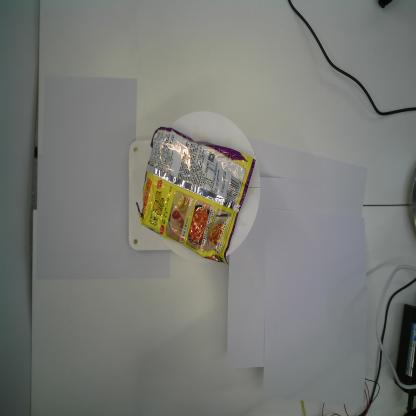Instant Noodles: (135, 125, 257, 267)
